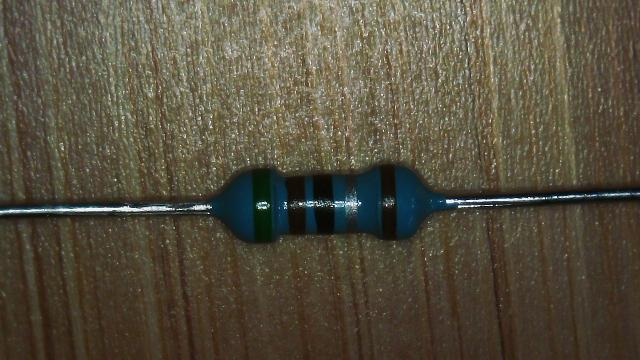black: (312, 174, 334, 234)
brown: (379, 165, 396, 239), (286, 176, 306, 234)
green: (252, 169, 273, 242)
resistor: (204, 153, 452, 250)
silver: (344, 174, 359, 230)
